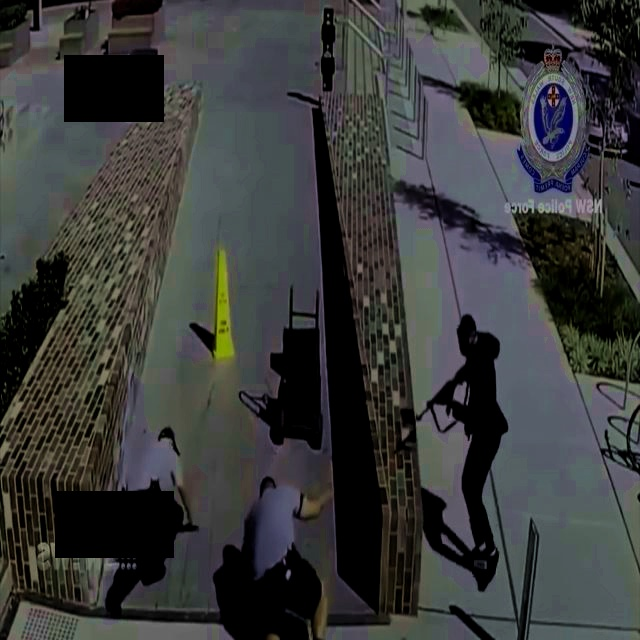gun: (415, 353, 477, 430)
